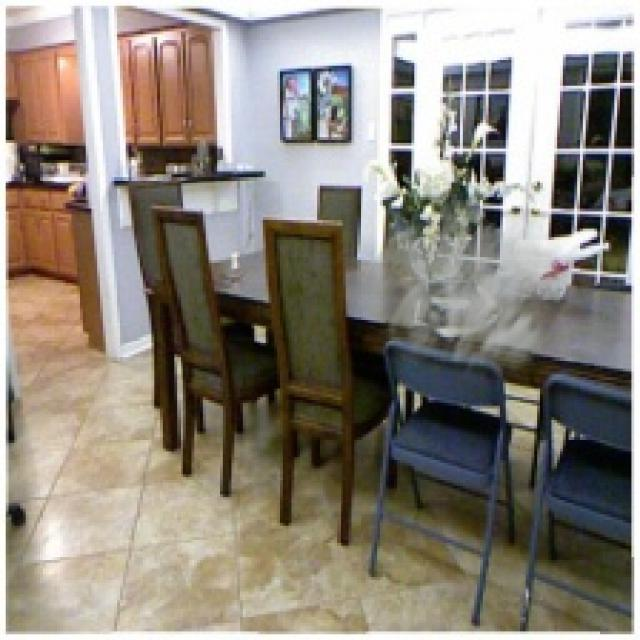smoke: (354, 191, 580, 406)
